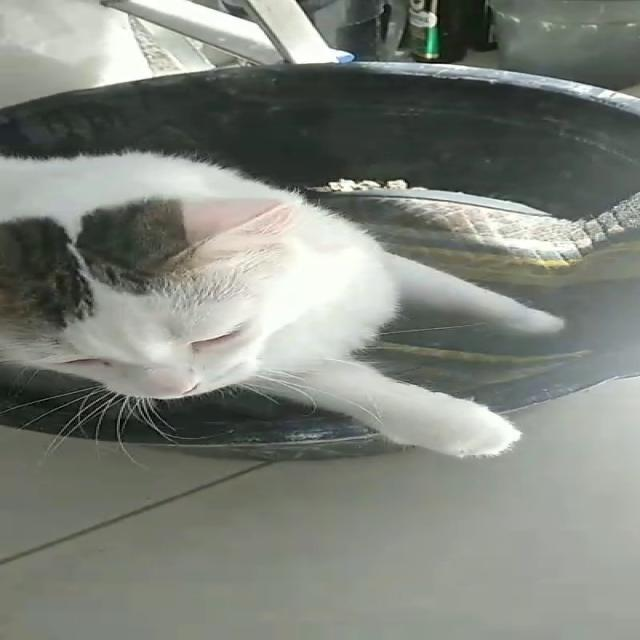Simba: (0, 136, 534, 463)
